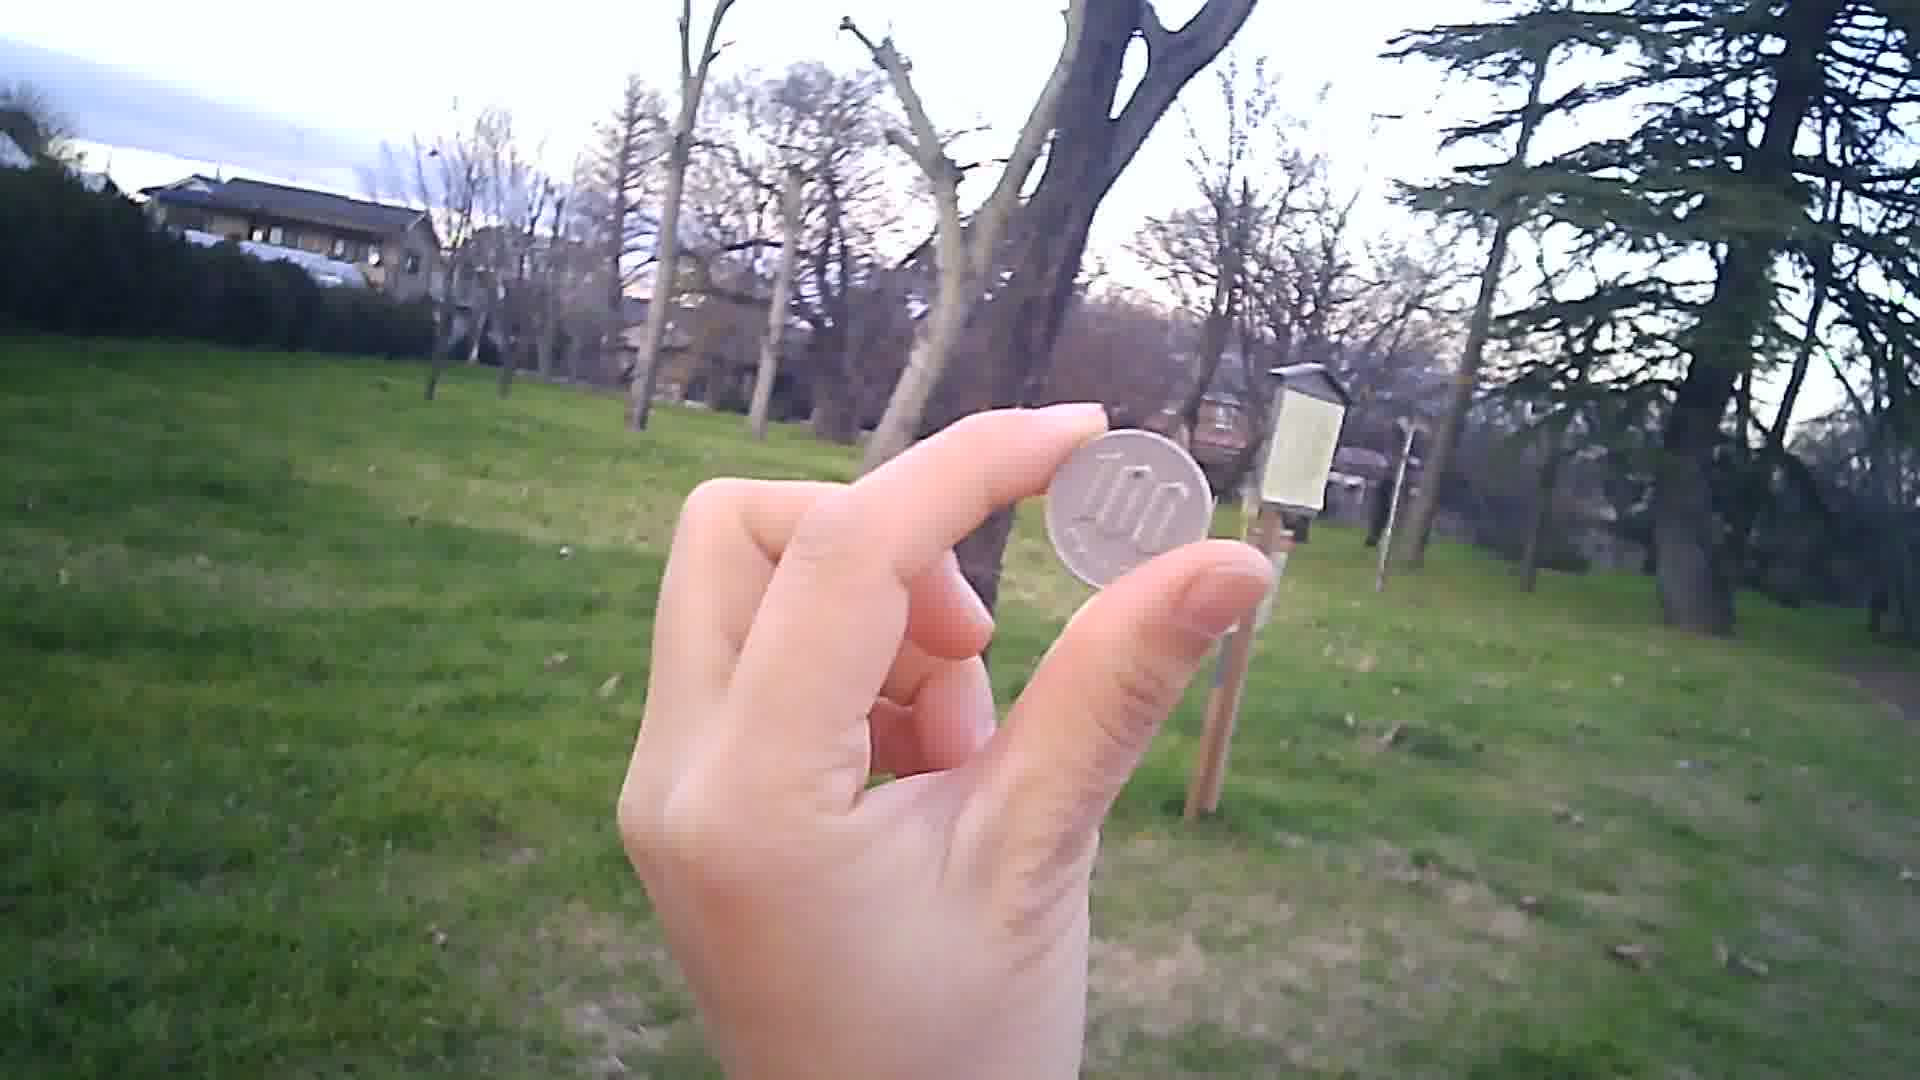100 Yen: (1048, 425, 1213, 587)
